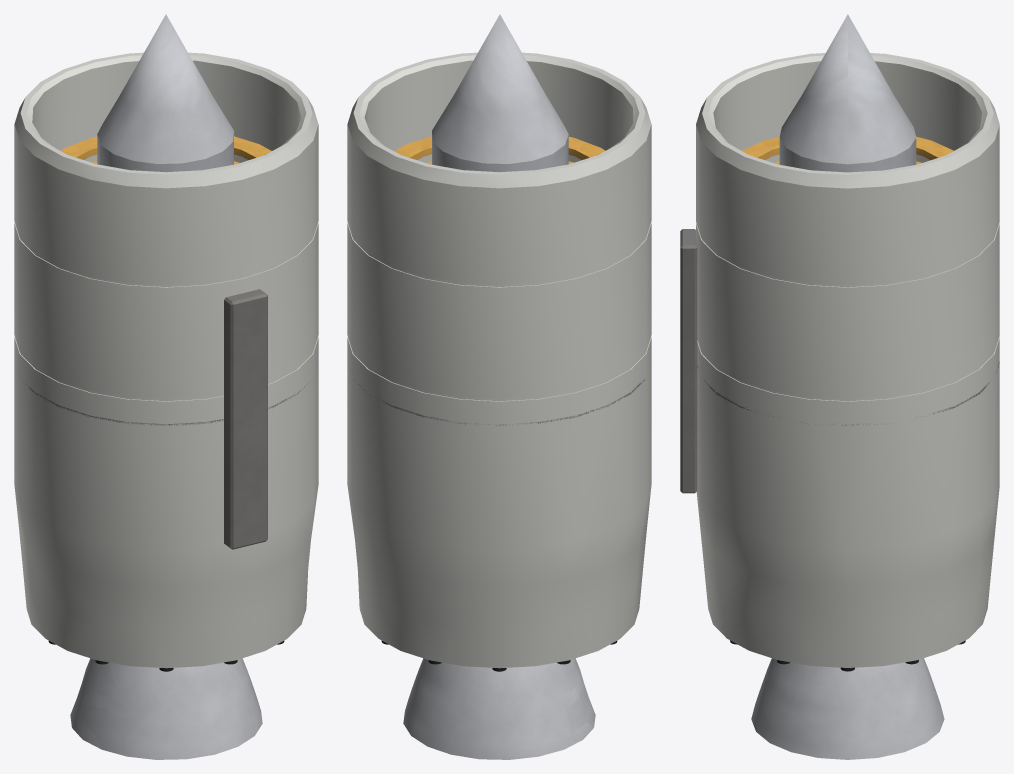
Rendered from ax_aero_30_jepc_precooled.glb.
3 renders of one model, left to right at view 1: azimuth 30°, elevation 25°; view 2: azimuth 150°, elevation 25°; view 3: azimuth 270°, elevation 25°, orthographic.
Visible parts, largest first — view 1: nacelle, rocket_bell, inlet_spike, pylon_pad, precooler; view 2: nacelle, rocket_bell, inlet_spike, precooler; view 3: nacelle, rocket_bell, inlet_spike, pylon_pad, precooler.
Part boxes in pixels (box(x1,y1,x2,y2)): nacelle: box(14, 52, 318, 668); rocket_bell: box(70, 658, 262, 759); inlet_spike: box(97, 14, 233, 172); pylon_pad: box(224, 289, 267, 549); precooler: box(60, 136, 271, 164); nacelle: box(347, 52, 651, 668); rocket_bell: box(403, 658, 595, 759); inlet_spike: box(432, 14, 568, 172); precooler: box(394, 136, 605, 164); nacelle: box(696, 53, 999, 667); rocket_bell: box(751, 658, 944, 759); inlet_spike: box(779, 14, 916, 172); pylon_pad: box(680, 229, 697, 493); precooler: box(742, 136, 953, 164).
Bounding box in the file's own units: 2.5 × 6.4 × 2.63.
Materials: 5 (3 with a texture image).
